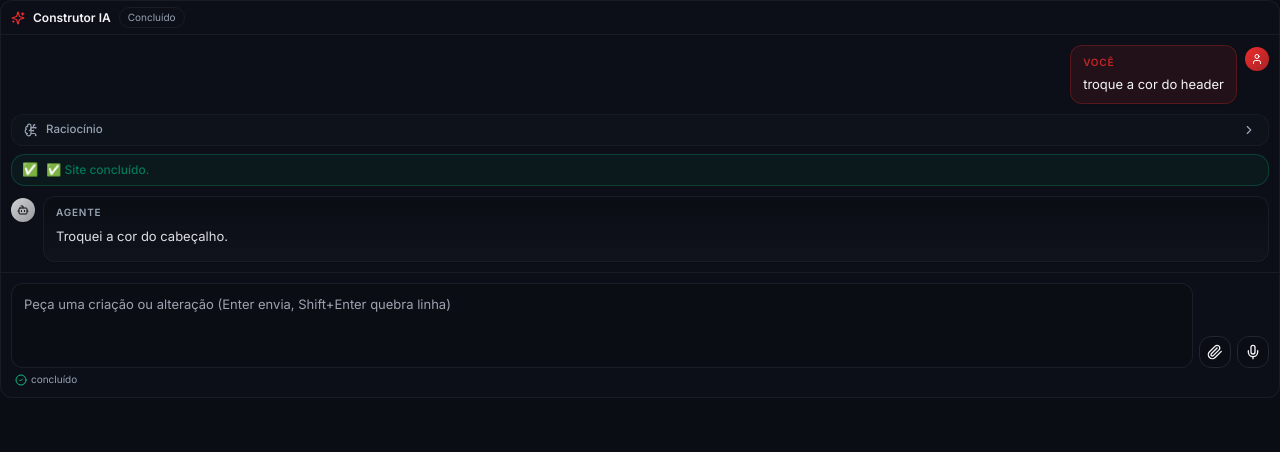
Raciocínio temporário no chat (estilo Kilo Code) › o raciocínio recolhido pode ser reaberto manualmente
Click the button with aria-label "Raciocínio do agente" at [74, 129], box [12,115,1268,145]
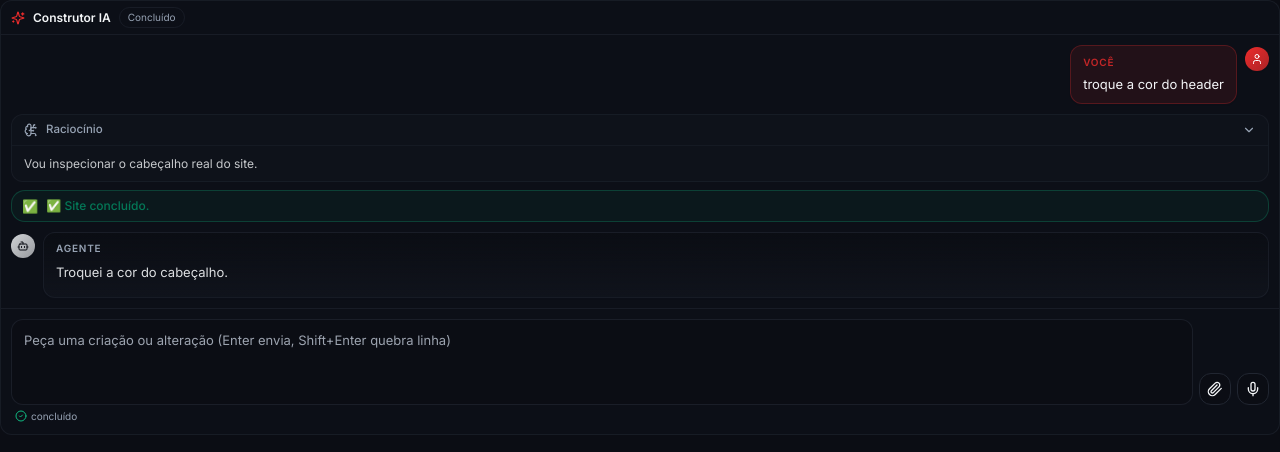
expect the text "Vou inspecionar o cabeçalho real do site." is shown: met, box [24,156,258,171]
